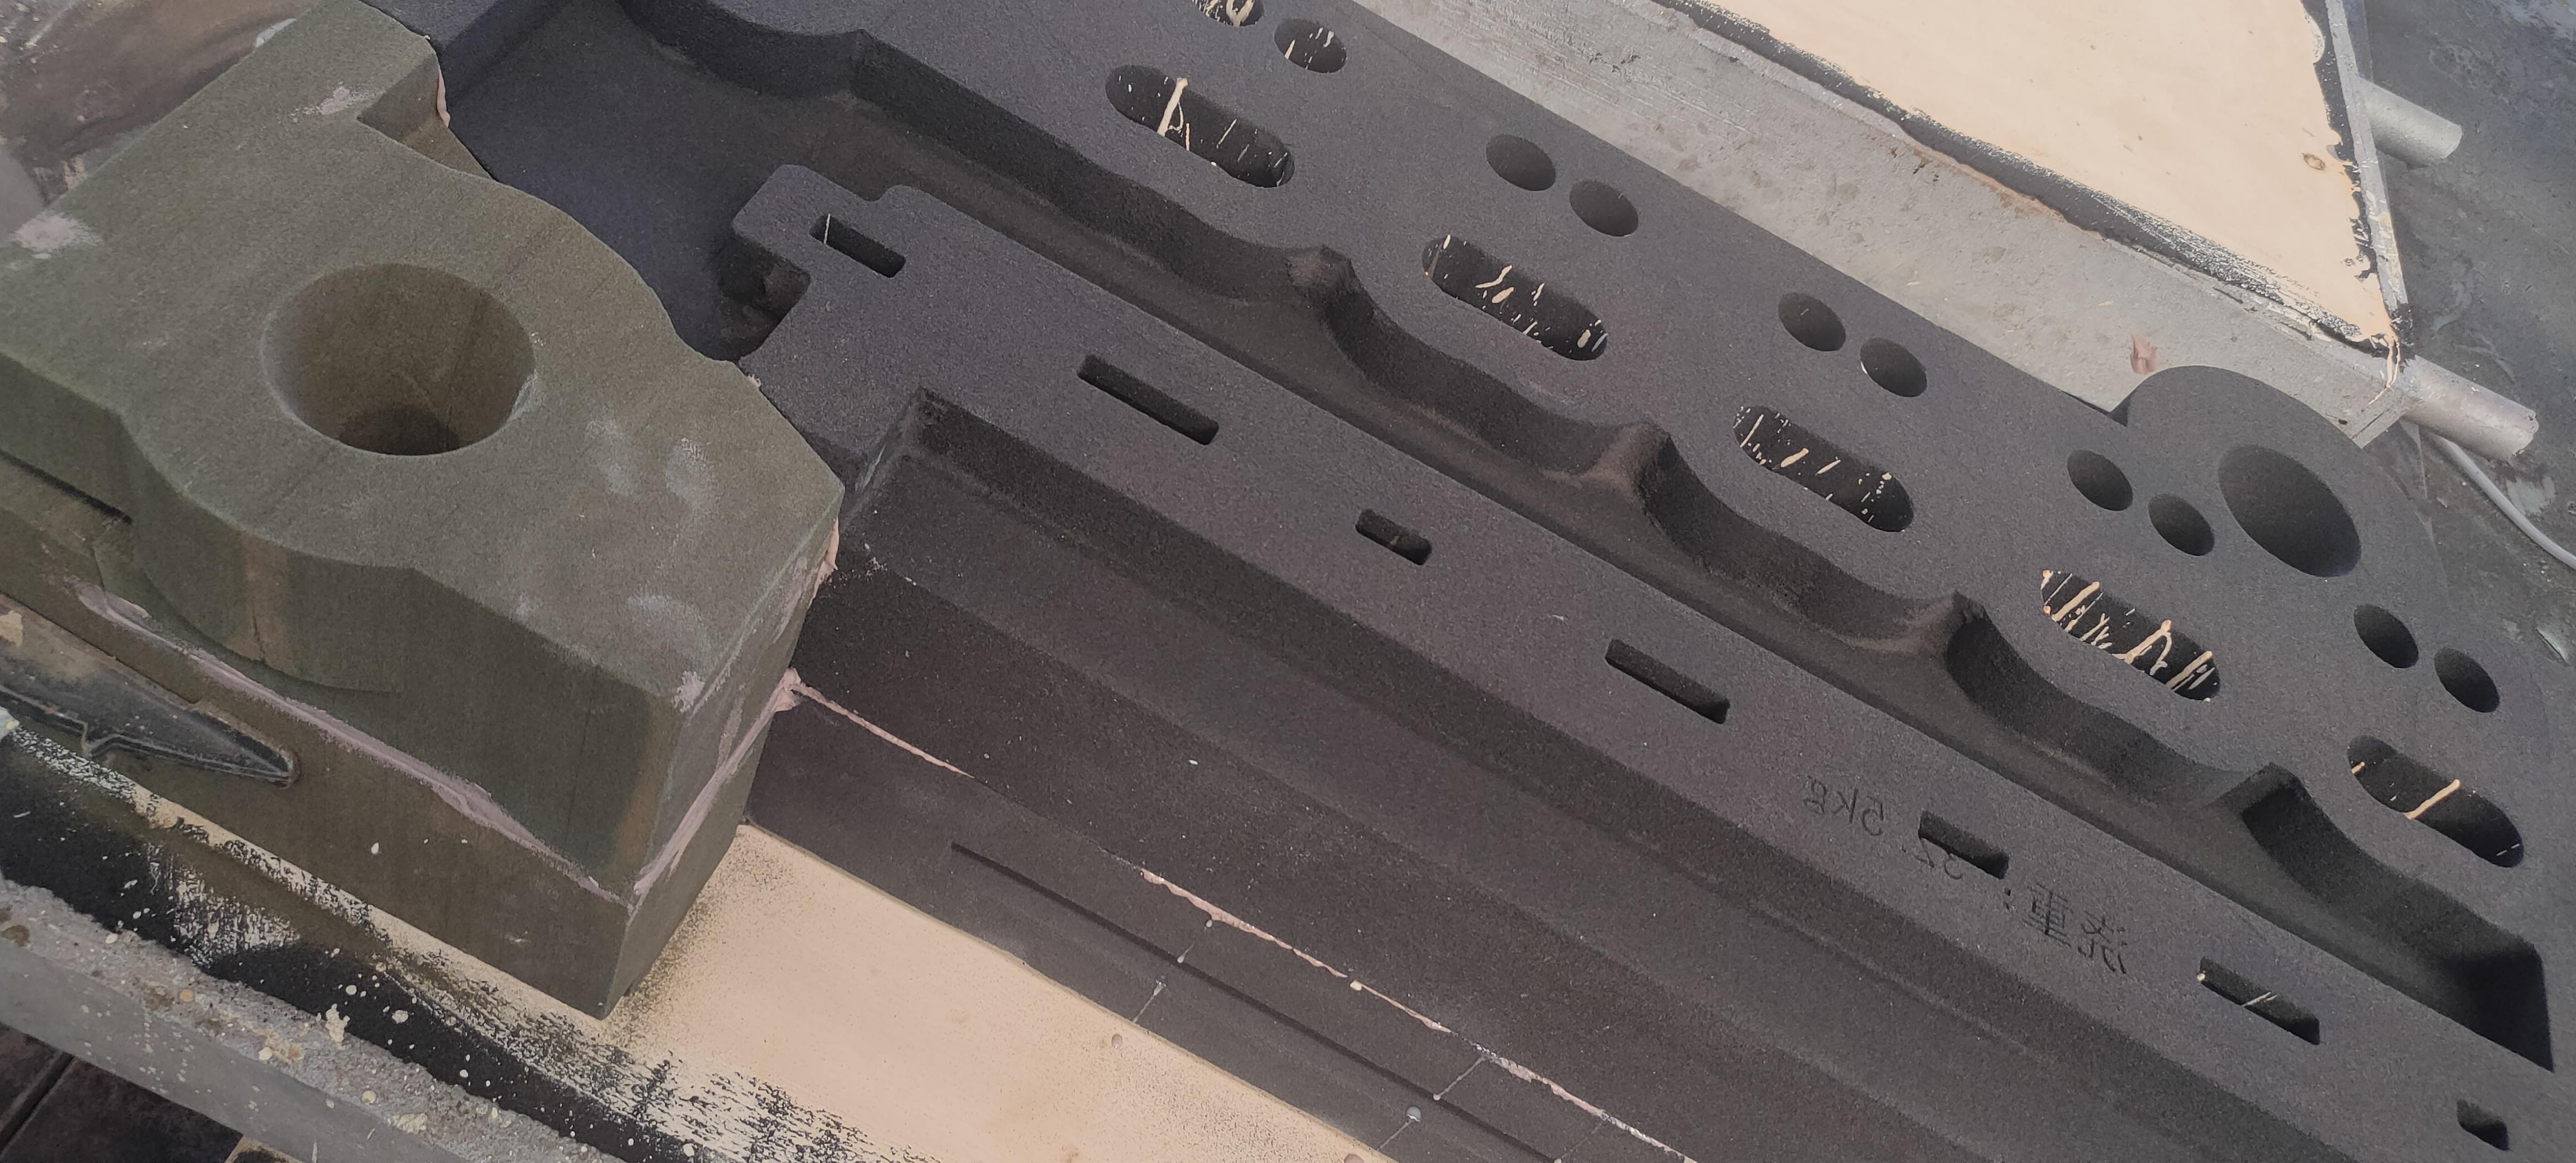pouring hole: (260, 263, 534, 457), (2220, 444, 2364, 580)
